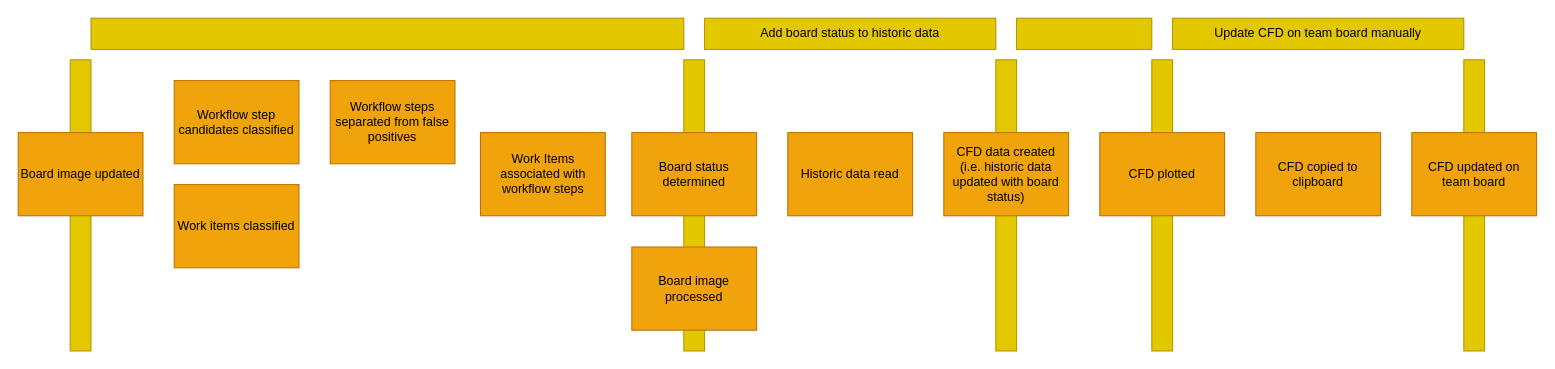
Some shapes in this 1555 by 369 pixel diagram are drawn without their labels. Here are the shapes that lost their labels. From the top down, the centre of each, then its label:
point 387,33: Determine board status, i.e. number of work items per workflow step
point 1084,33: Plot CFD
